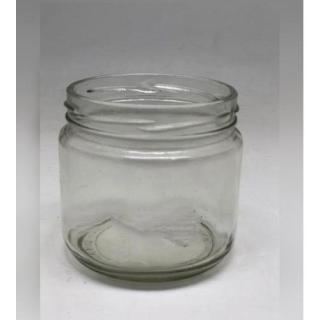GLASS: (54, 68, 245, 280)
